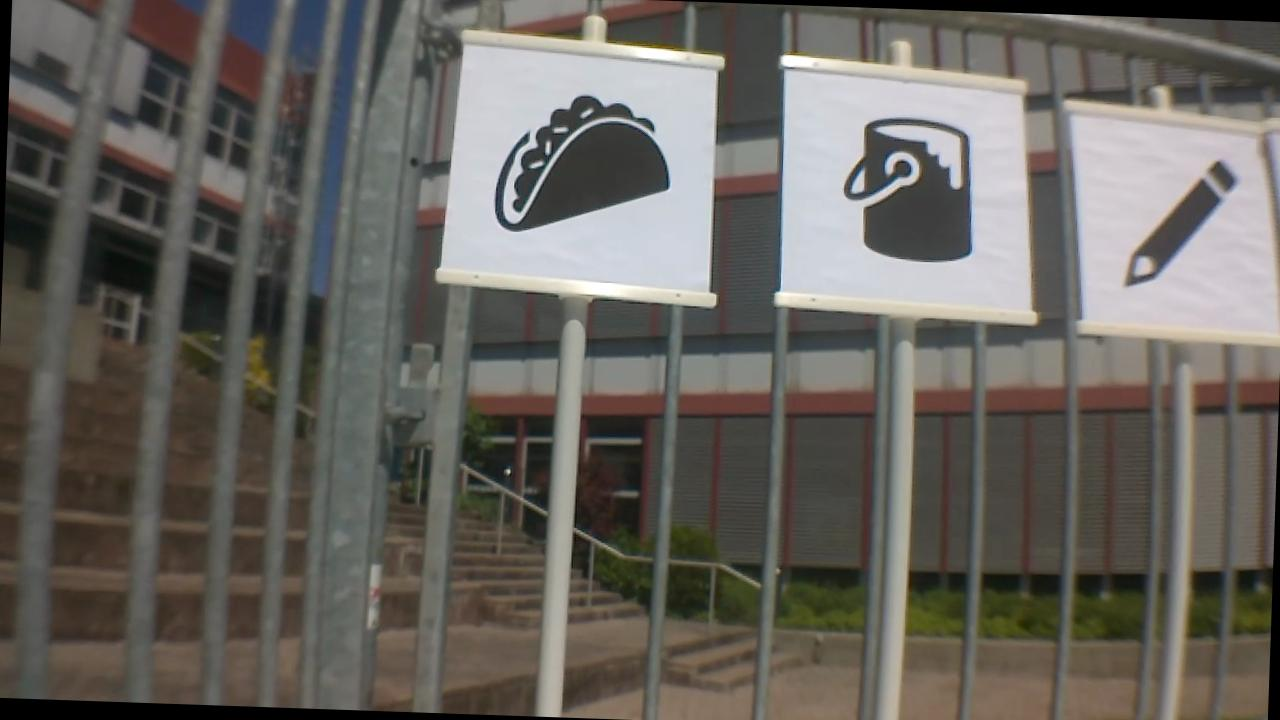bucket: (829, 113, 982, 268)
pencil: (1118, 153, 1241, 297)
taco: (487, 92, 679, 240)
